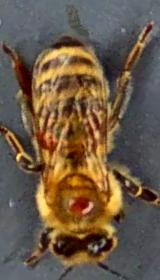varroa_mite: (28, 123, 65, 164), (58, 186, 98, 214)
